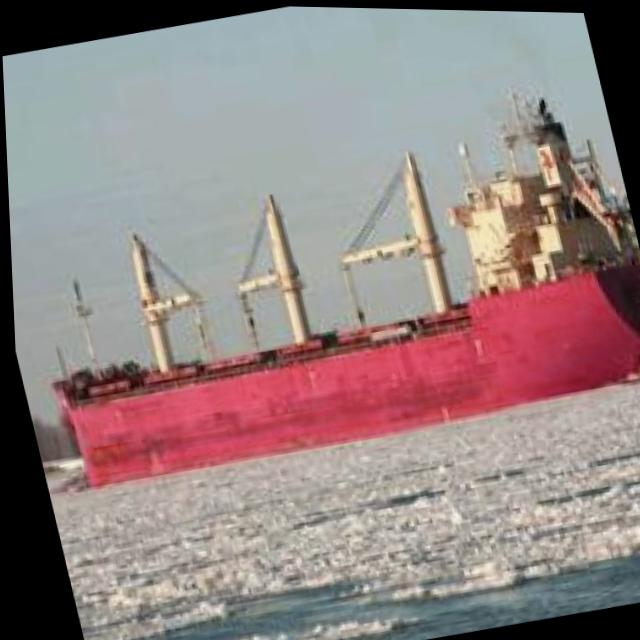ship2: (48, 82, 640, 491)
